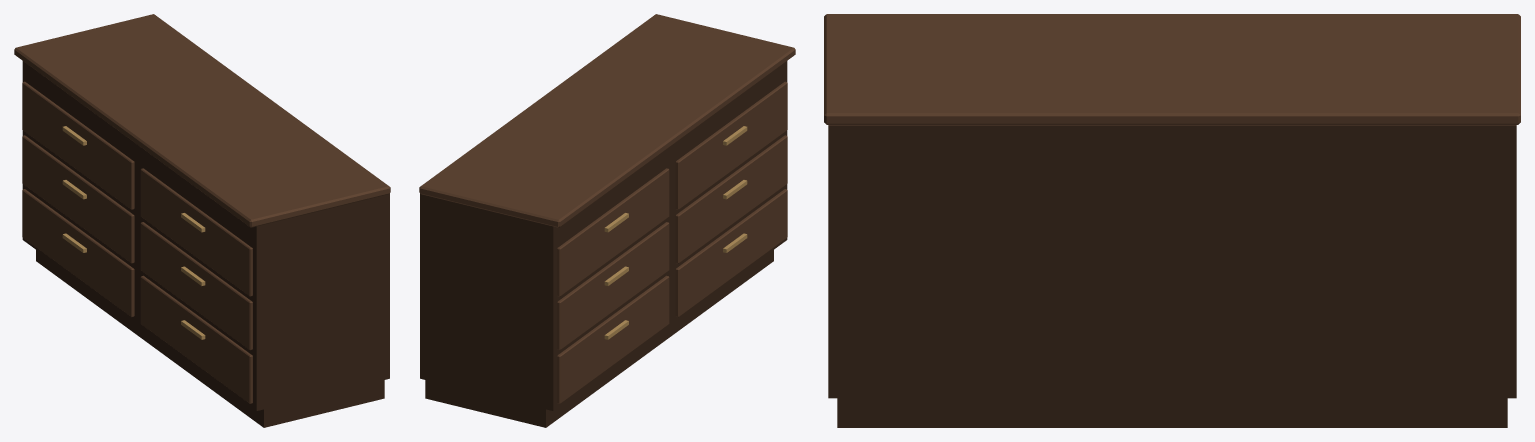
The model's file is tv_dresser.glb.
3 renders of one model, left to right at view 1: azimuth 30°, elevation 25°; view 2: azimuth 150°, elevation 25°; view 3: azimuth 270°, elevation 25°, orthographic. The views are drawn at different scales.
Parts seen in each view (by area): view 1: tv_dresser; view 2: tv_dresser; view 3: tv_dresser.
Part boxes in pixels (x1,y1,x2,y2): tv_dresser: (14, 14, 390, 427); tv_dresser: (419, 14, 795, 427); tv_dresser: (824, 14, 1520, 427).
Bounding box in the file's own units: 0.55 × 0.8 × 1.6.
